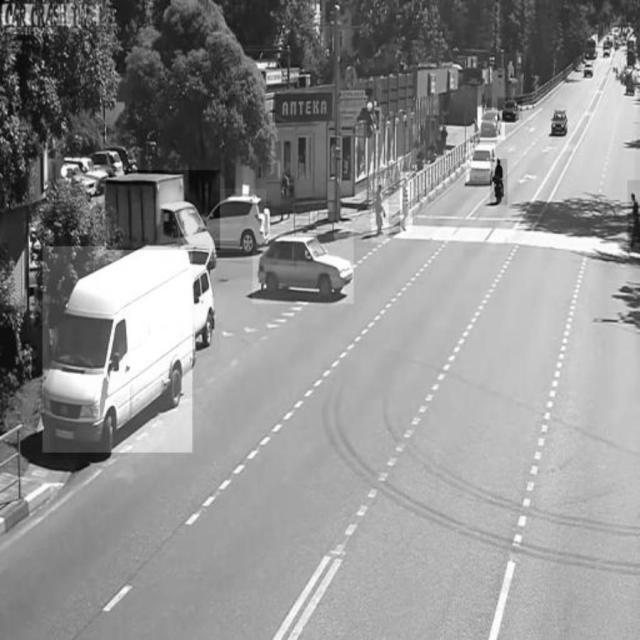person: (371, 179, 388, 243), (628, 181, 640, 254), (399, 173, 413, 233)
vehicle: (42, 246, 193, 452), (107, 170, 220, 250), (253, 234, 354, 304), (203, 189, 267, 253), (466, 143, 494, 184), (478, 108, 505, 140), (490, 159, 507, 205), (550, 105, 568, 141), (498, 97, 523, 121)
